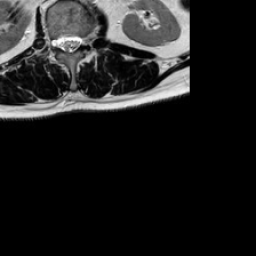CCS_normal: (65, 27, 72, 60)
LFS_normal: (82, 27, 89, 52)
LLS_normal: (72, 27, 82, 55)
RFS_normal: (49, 28, 56, 54)
RLS_normal: (56, 26, 65, 56)
